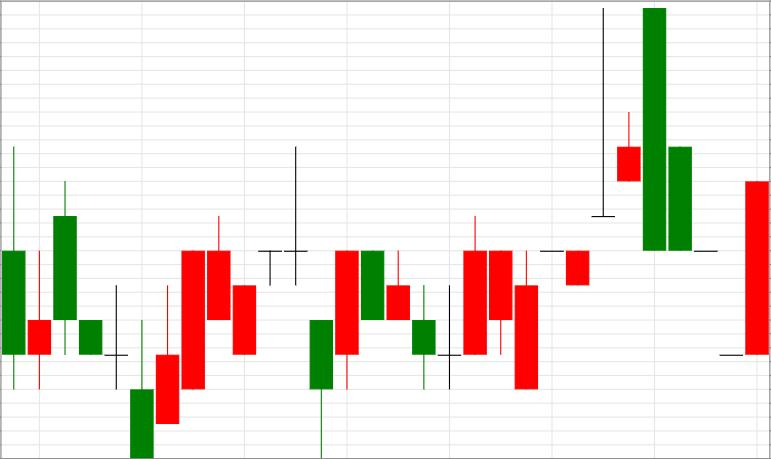bearish_engulfing_fall: (514, 7, 666, 389)
morning_star_rise: (361, 216, 487, 391)
